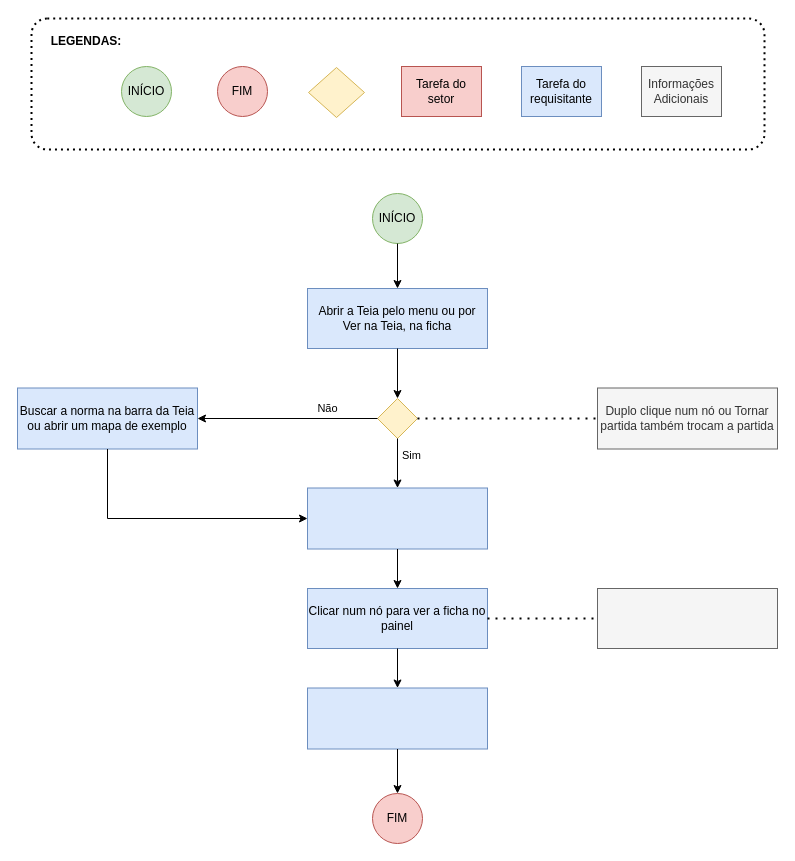
Some shapes in this 795 by 861 pixel diagram are drawn without their labels. Here are the shapes that lost their labels. From the top down, the centre of each, then its label:
At [336,92]: "SE".
At [397,418]: "A partida é a norma certa?".
At [397,518]: "Ajustar a Direção e a Profundidade da vizinhança".
At [687,618]: "Nós tracejados: normas citadas e ainda sem texto".
At [397,718]: "Abrir a ficha completa e o texto (FAROL03 e FAROL04)".
